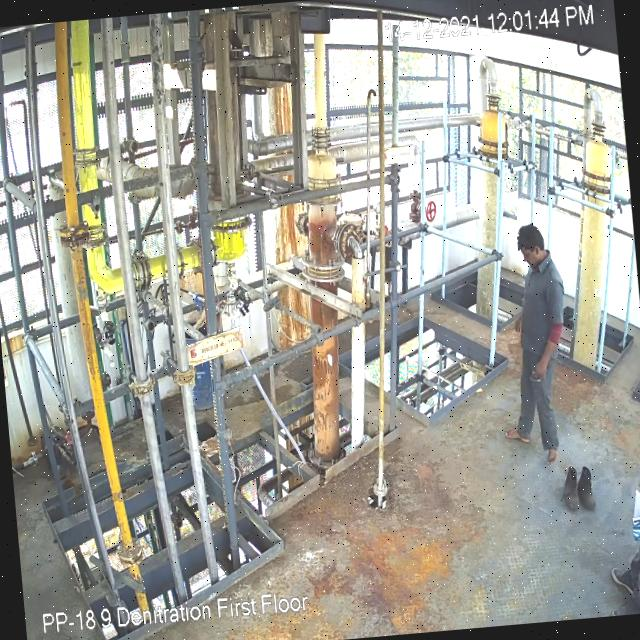boots: (577, 466, 598, 510), (560, 466, 578, 509)
no-boots: (501, 419, 534, 449), (546, 444, 562, 468)
